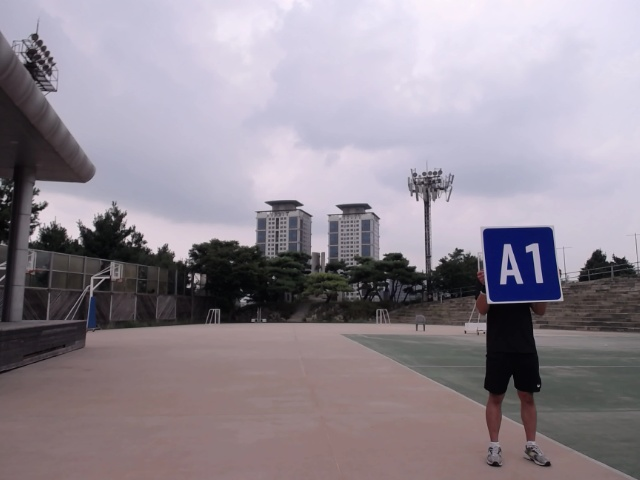delivery_a1: (483, 226, 562, 301)
